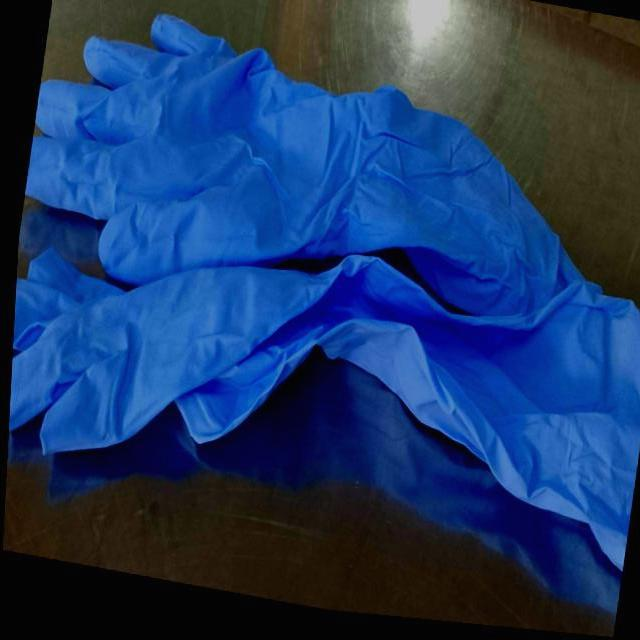General: (9, 11, 640, 628)
